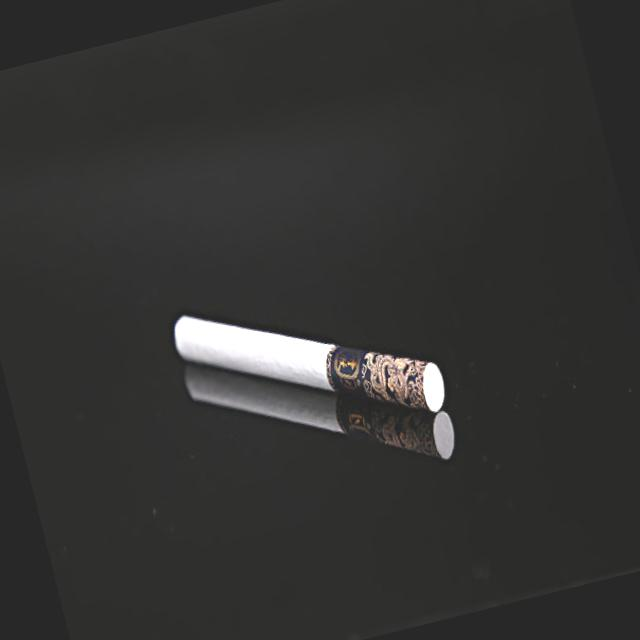cigarette: (160, 255, 454, 472)
